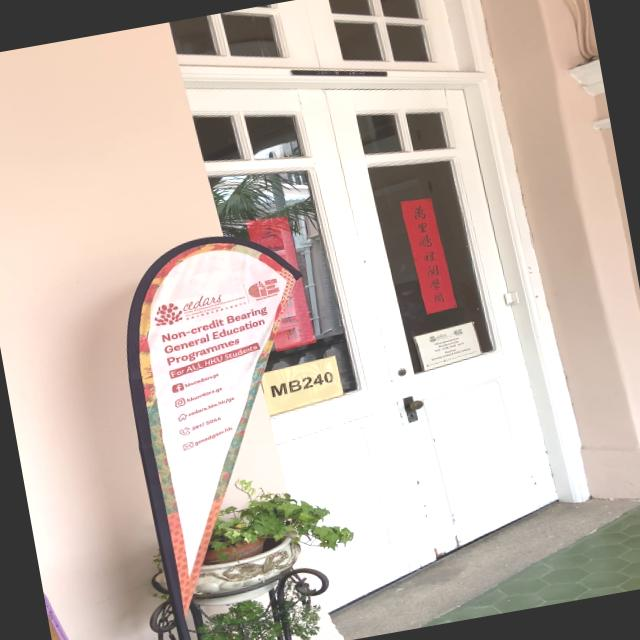room240: (265, 365, 342, 402)
